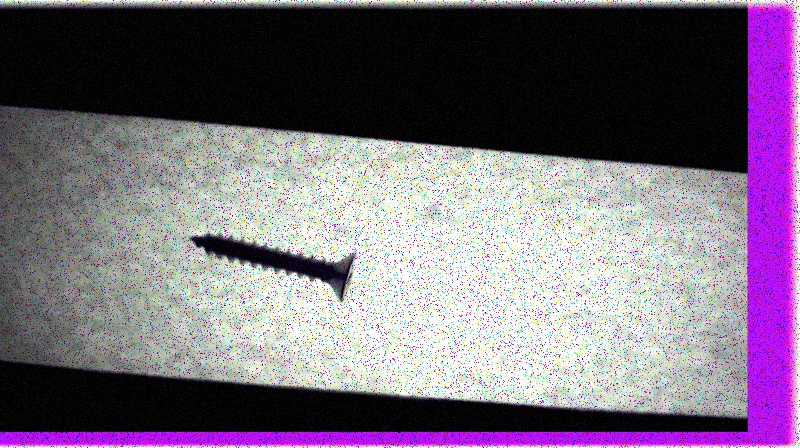S001: (182, 223, 358, 304)
